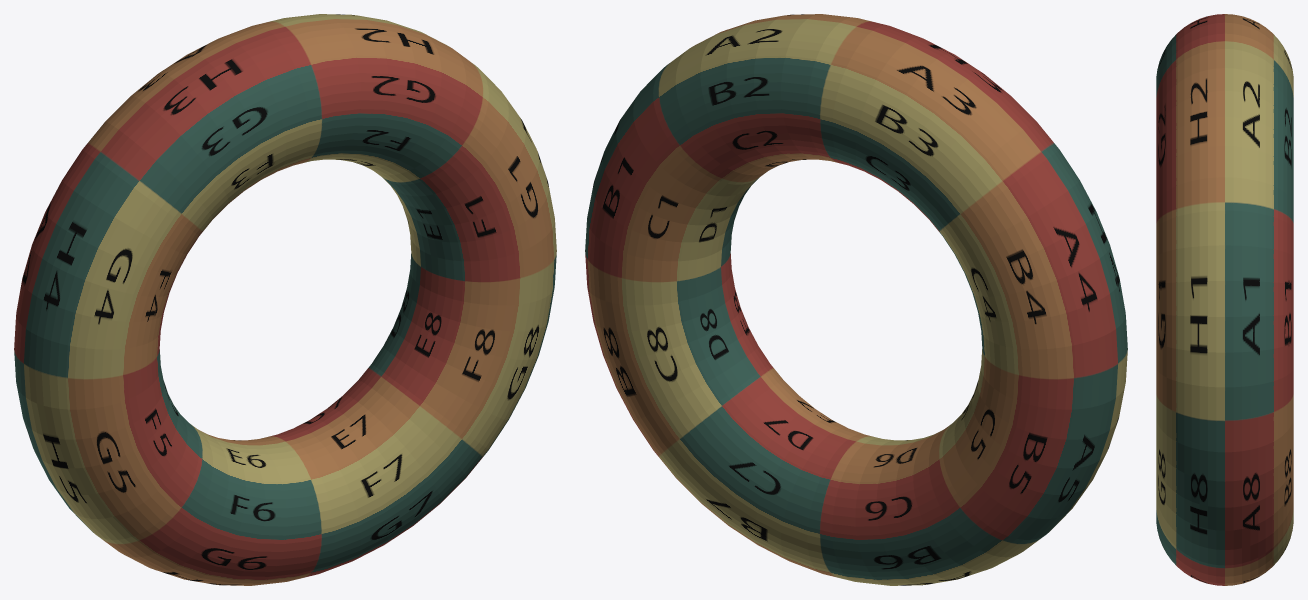
Rendered from texture_torus_R2_r6.glb.
The picture shows the model from 3 angles, left to right: view 1: azimuth 30°, elevation 25°; view 2: azimuth 150°, elevation 25°; view 3: azimuth 270°, elevation 25°; orthographic projection. The views are drawn at different scales.
Visible parts, largest first — view 1: world; view 2: world; view 3: world.
Boxes of the visible parts, <box> form: world: <box>14,14,556,585</box>; world: <box>585,14,1127,585</box>; world: <box>1156,14,1293,585</box>.
Size of the model in its own units: 14.93 by 14.9 by 3.59.
1 material, 1 textured.
